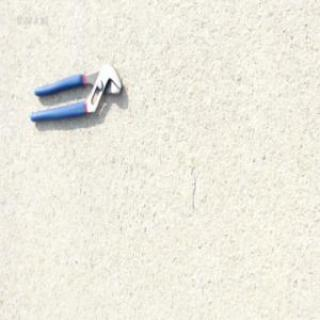Pliertrack_idkeyframe: (28, 61, 124, 123)
